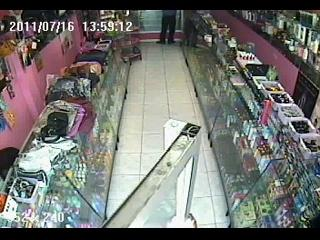Normal: (156, 10, 178, 44)
